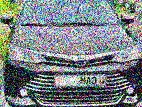car: (3, 1, 142, 107)
